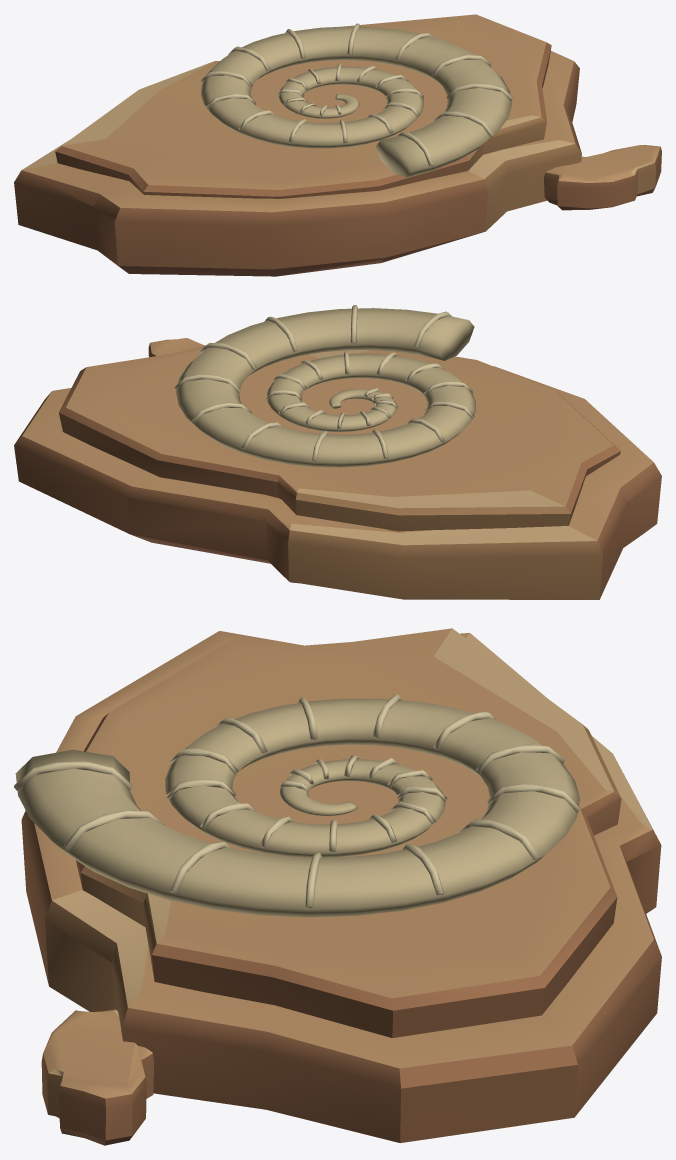
Rendered from fw_petra_raw_fossil.glb.
3 views of the same model, one above another, from view 1: azimuth 30°, elevation 25°; view 2: azimuth 150°, elevation 25°; view 3: azimuth 270°, elevation 25° (orthographic). The views are drawn at different scales.
Parts seen in each view (by area): view 1: body; view 2: body; view 3: body.
Part boxes in pixels (x1,y1,x2,y2): body: (14,14,661,276); body: (14,305,661,599); body: (14,628,661,1145).
Bounding box in the file's own units: 2.23 × 0.4387 × 1.4.
